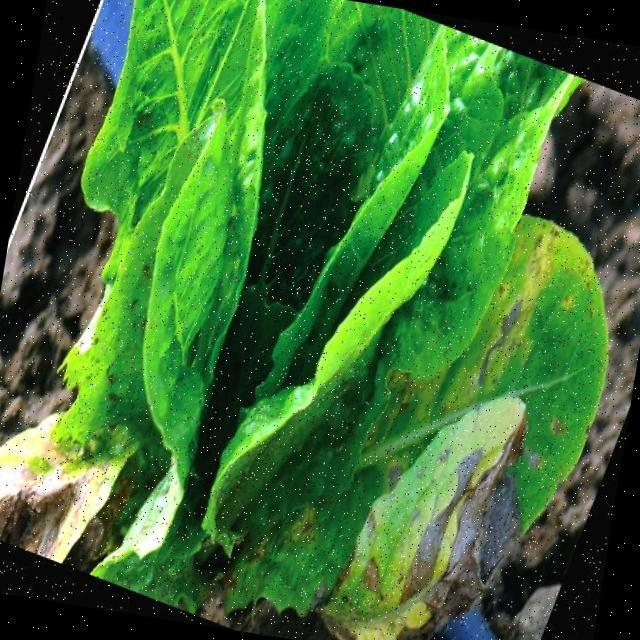Downy_mildew_on_lettuce: (285, 173, 638, 640)
